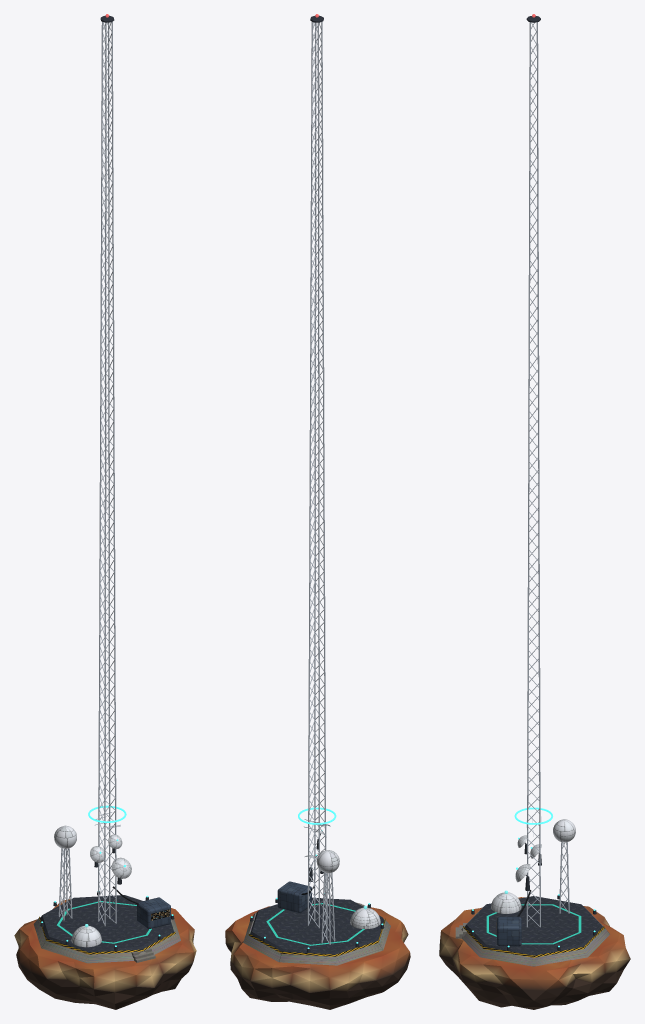
3 views of the same model, side by side, from view 1: azimuth 30°, elevation 25°; view 2: azimuth 150°, elevation 25°; view 3: azimuth 270°, elevation 25° (orthographic).
Parts seen in each view (by area): view 1: object 1, object 4, object 2, object 612, object 610, object 665; view 2: object 1, object 4, object 2, object 612, object 610, object 665; view 3: object 1, object 4, object 2, object 612, object 610.
Part boxes in pixels (box(x1,y1,x2,y2)): object 1: box(14, 899, 196, 1009); object 4: box(40, 895, 173, 952); object 2: box(33, 914, 180, 963); object 612: box(137, 897, 170, 928); object 610: box(71, 925, 101, 947); object 665: box(54, 825, 76, 848); object 1: box(225, 906, 410, 1009); object 4: box(250, 897, 384, 954); object 2: box(243, 912, 390, 965); object 612: box(277, 881, 311, 913); object 610: box(350, 907, 380, 929); object 665: box(316, 850, 339, 873); object 1: box(439, 897, 630, 1009); object 4: box(465, 896, 602, 955); object 2: box(461, 907, 609, 966); object 612: box(497, 916, 521, 946); object 610: box(491, 892, 521, 913).
Size of the model in its own units: 6.25 by 34.96 by 6.25.
Materials: 15 (6 with a texture image).
